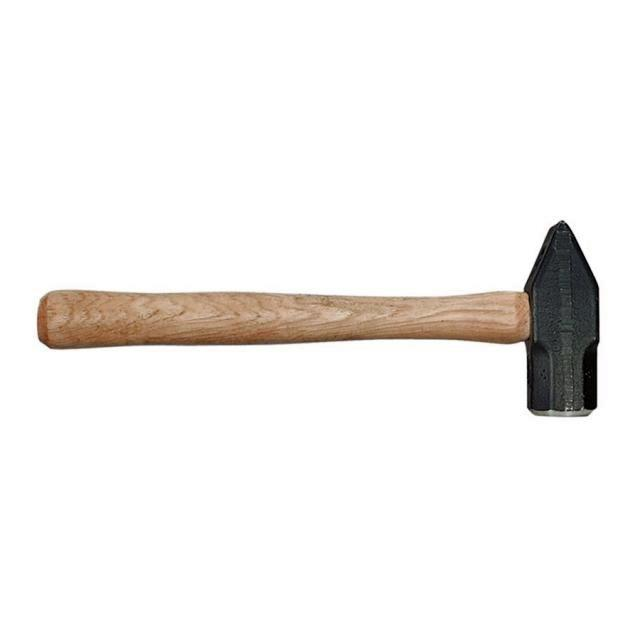hammer: (32, 210, 607, 422)
